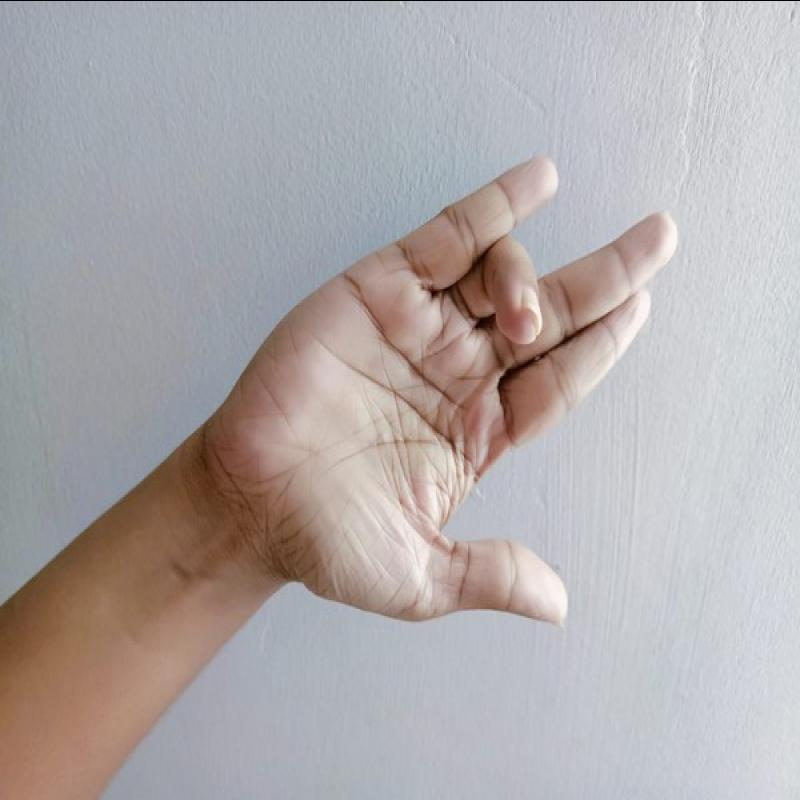Pathaaka: (223, 151, 710, 636)
